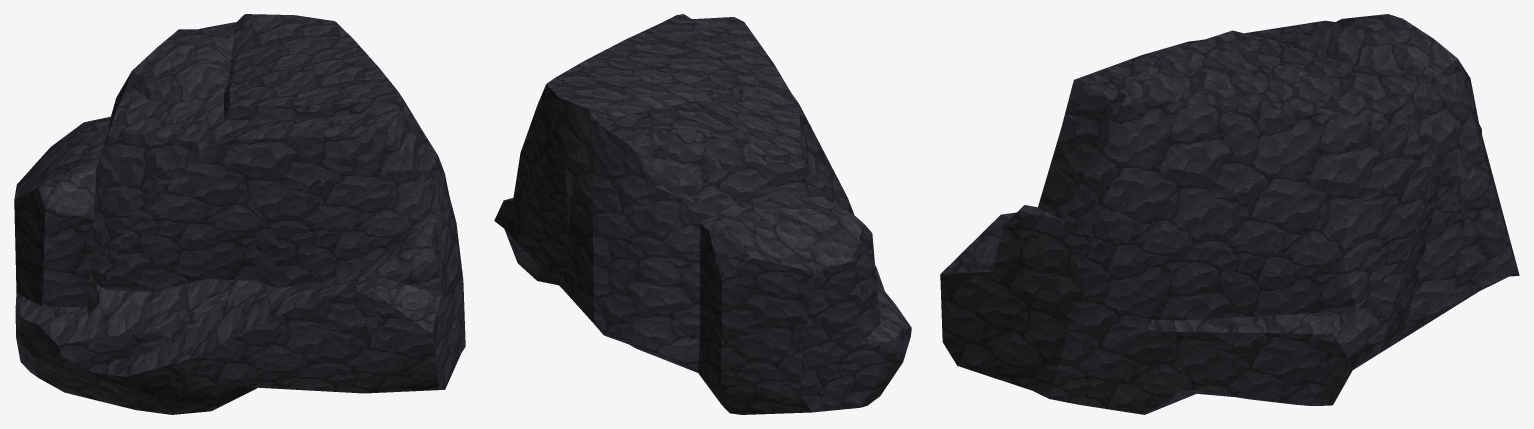
Rendered from grock_medium_3.glb.
3 views of the same model, side by side, from view 1: azimuth 30°, elevation 25°; view 2: azimuth 150°, elevation 25°; view 3: azimuth 270°, elevation 25° (orthographic). The views are drawn at different scales.
Parts seen in each view (by area): view 1: model; view 2: model; view 3: model.
Part boxes in pixels (x1,y1,x2,y2): model: (14, 14, 465, 414); model: (494, 14, 911, 414); model: (940, 14, 1519, 414).
Bounding box in the file's own units: 3.4 × 2.3 × 3.49.
Materials: 1 (1 with a texture image).
